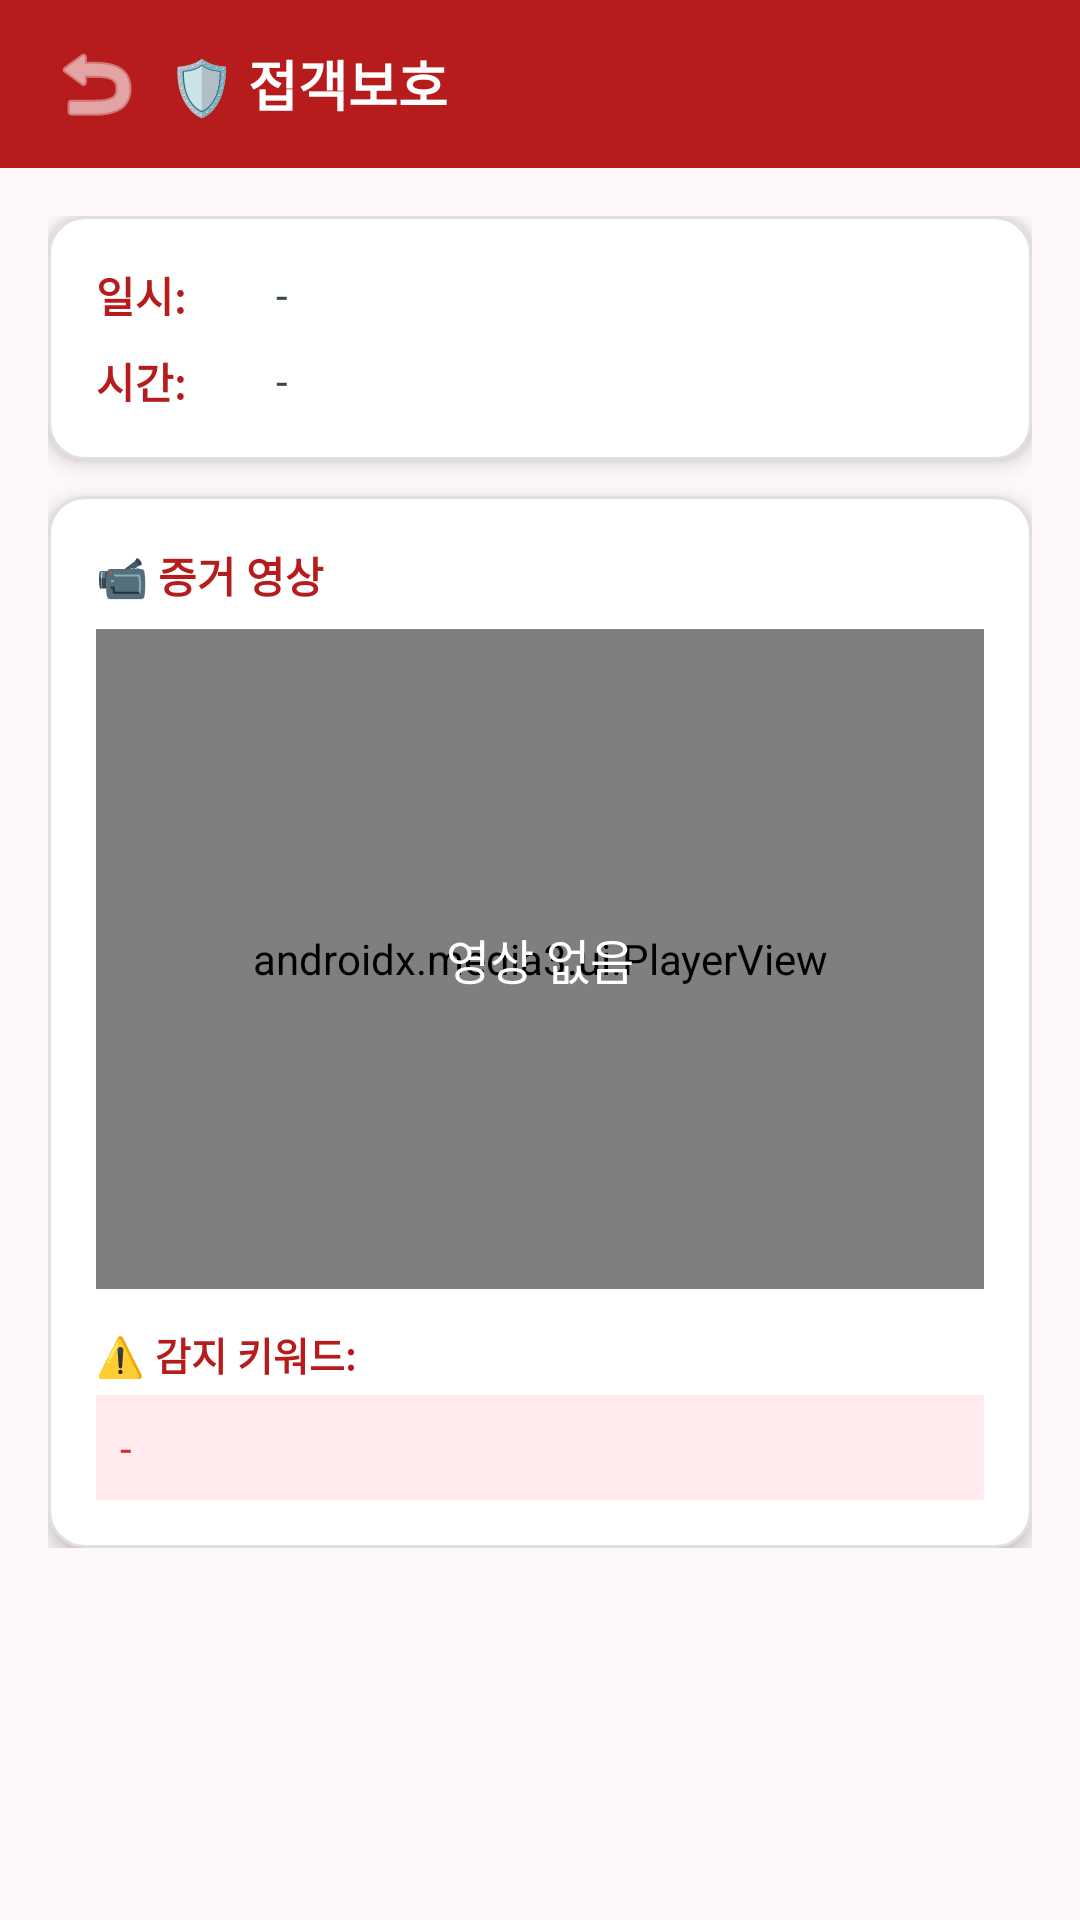

Icons on this 1080x1920 Android screen, each with its box as (x1, y1, x2, y2):
revert: (63, 53, 132, 116)
